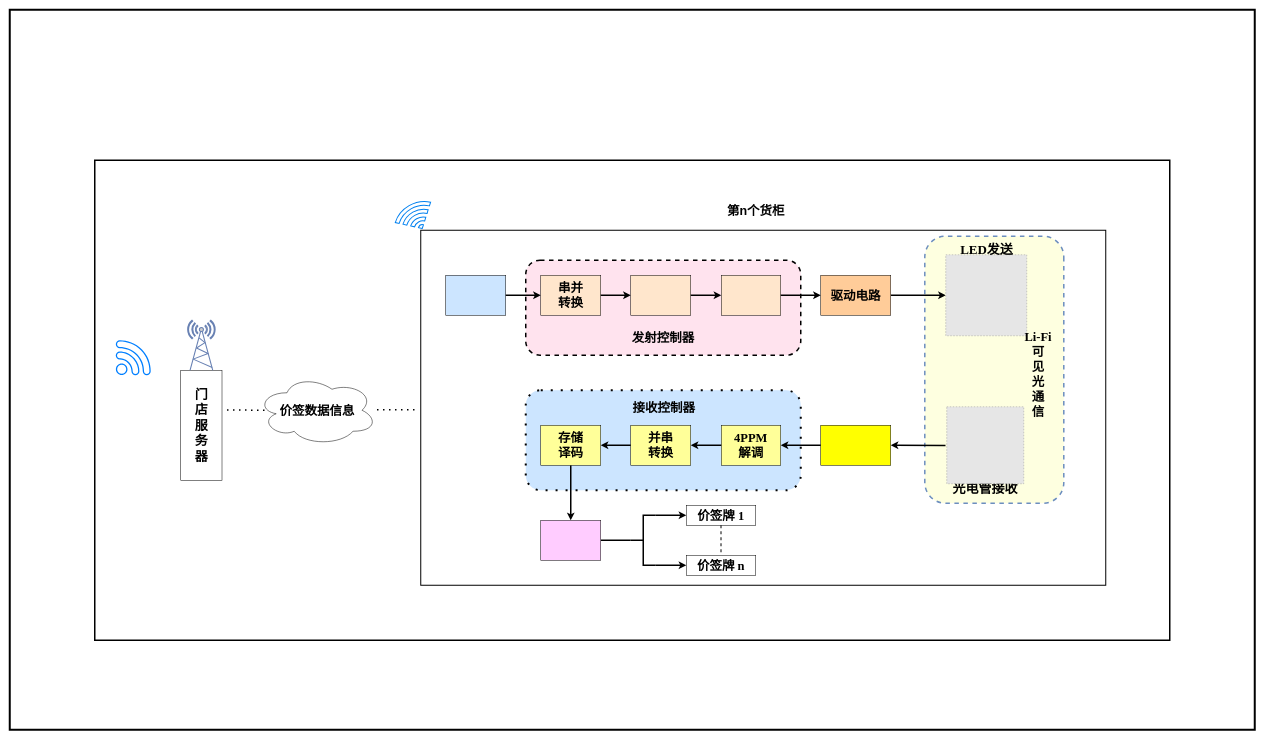
The diagram is 1264 pixels wide and 739 high, and some of its shapes have lost their labels. Grey dashed boxes stand in for pictures. Each missing label, with the centre of its shape:
4PPM 调制: point (660, 295)
PWM 调制: point (751, 295)
WiFi 模块: point (475, 295)
放大 整形电路: point (855, 445)
端口 扩展电路: point (570, 540)
